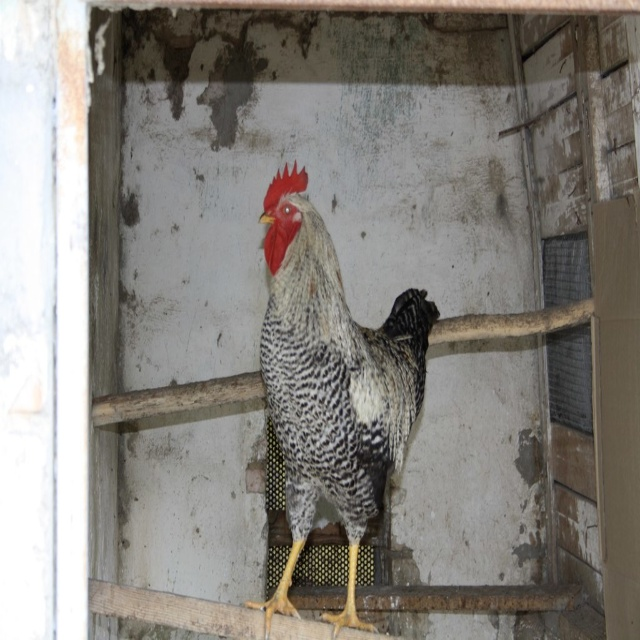Chicken: (264, 148, 442, 640)
